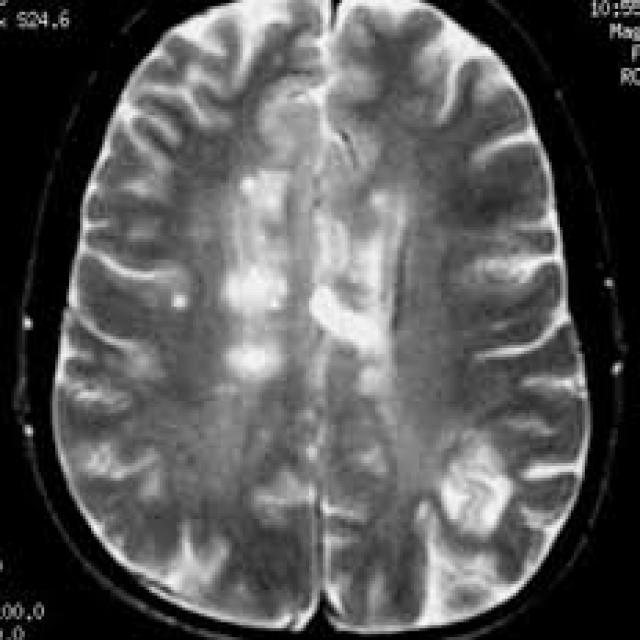notumor: (47, 0, 626, 637)
